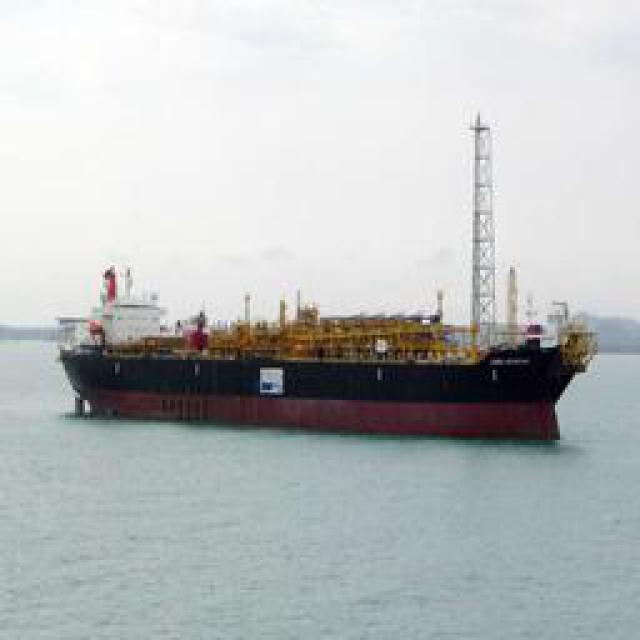Ship: (64, 287, 599, 440)
